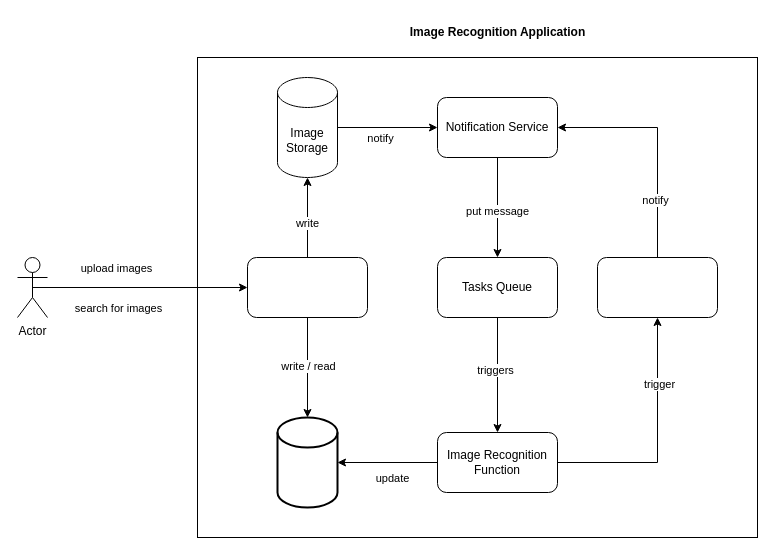
Image size: 775x555. Some labels were removed from this diagram. Each missing label, with the centre of its shape:
"Image Database" goes at point (307, 462).
"Image Recognition Service" goes at point (657, 287).
"Image Service API" goes at point (307, 287).
